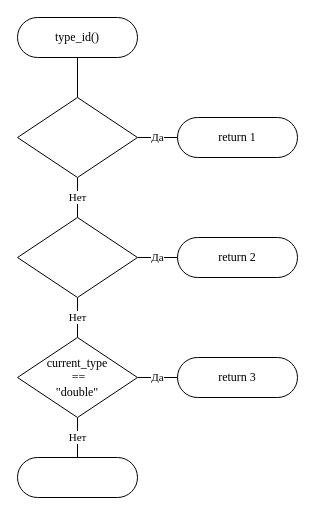
Some shapes in this 315 by 515 pixel diagram are drawn without their labels. Each missing label, with the centre of its shape:
current_type == "char": (77,257)
current_type == "unsigned int": (77,137)
return -1: (77,477)
